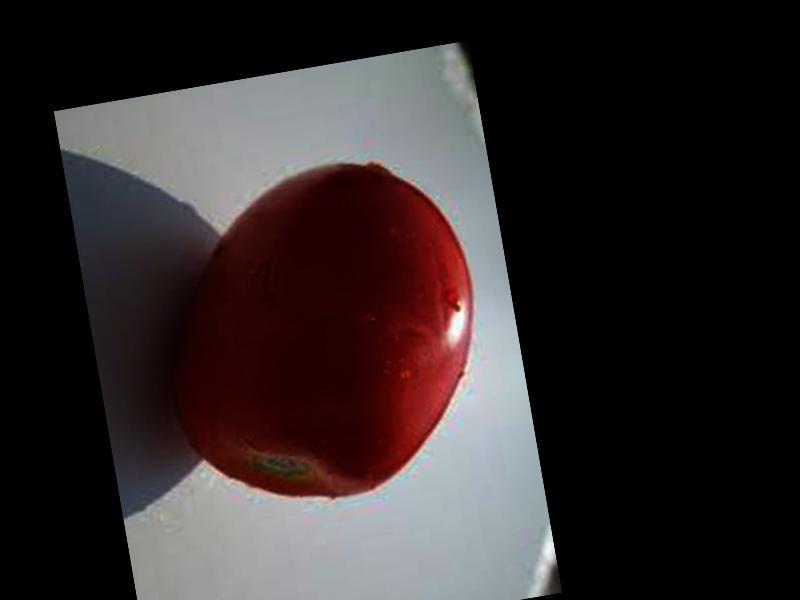Tomato: (143, 146, 503, 520)
